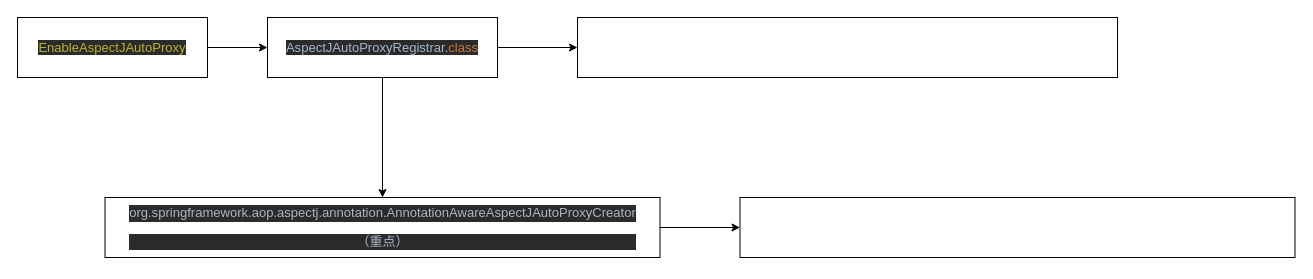
Image size: 1313x279. Some labels were removed from this diagram. Here are the shapes that lost their labels. From the top down, the centre of each, then its label:
At point 847,47: "org.springframework.aop.config.AopConfigUtils#registerOrEscalateApcAsRequired".
At point 1017,227: "org.springframework.aop.framework.autoproxy.AbstractAutoProxyCreator".
